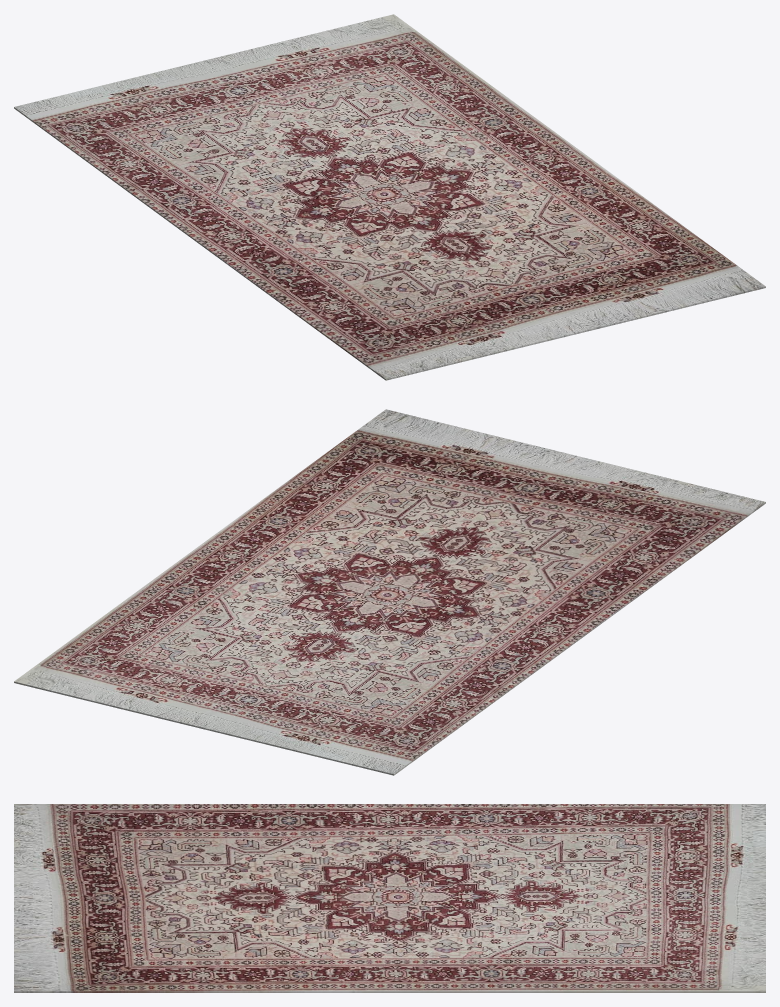
Rendered from carpet.glb.
The picture shows the model from 3 angles, top to bottom: view 1: azimuth 30°, elevation 25°; view 2: azimuth 150°, elevation 25°; view 3: azimuth 270°, elevation 25°; orthographic projection.
Size of the model in its own units: 1.41 by 0.0052 by 2.39.
Materials: 1 (1 with a texture image).
